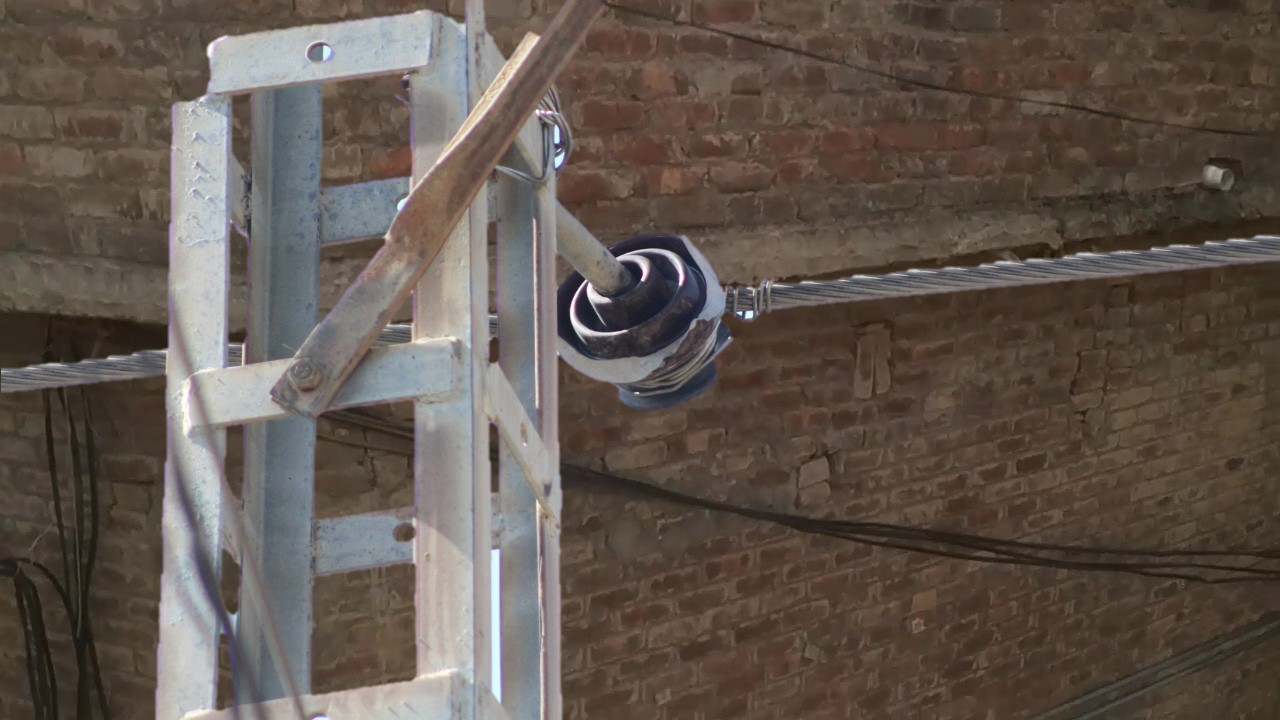defect_pin: (554, 221, 742, 420)
